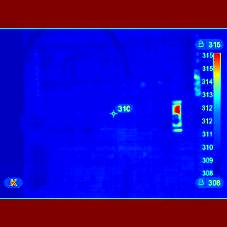Less: (173, 115, 182, 132)
